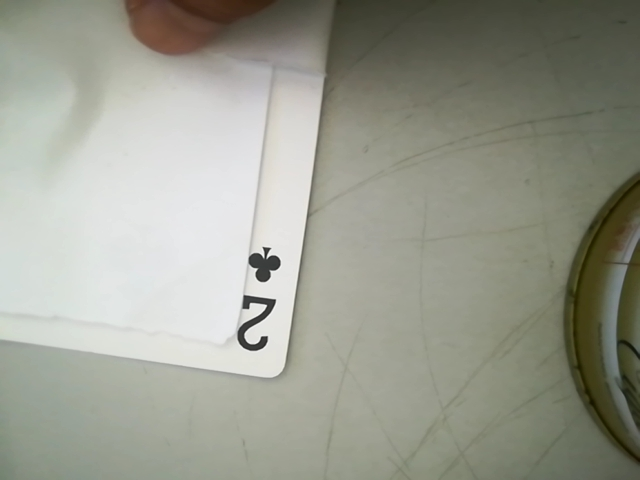mh 2: (221, 232, 293, 364)
